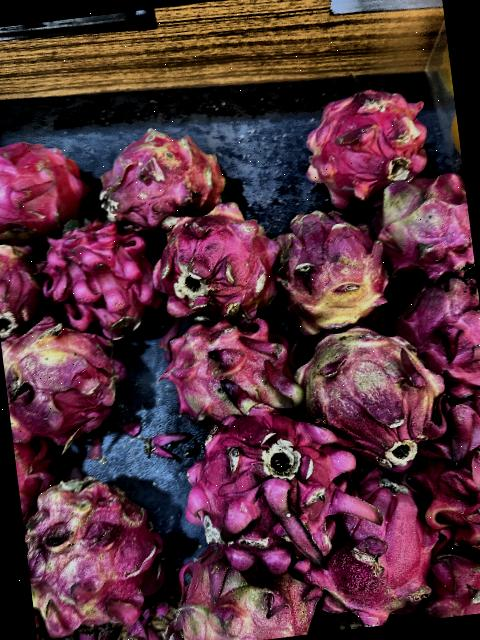buah-naga-belum-matang: (292, 313, 453, 468), (18, 468, 168, 629), (154, 310, 304, 428), (167, 533, 327, 640), (271, 198, 395, 334), (0, 318, 130, 444), (374, 169, 476, 283)
buah-naga-matang: (173, 387, 387, 580), (292, 457, 449, 628), (144, 198, 287, 326), (298, 82, 434, 202), (36, 210, 164, 337), (86, 122, 239, 222), (391, 273, 480, 390), (0, 128, 90, 230), (407, 436, 480, 559), (0, 232, 50, 330), (422, 541, 480, 618)
